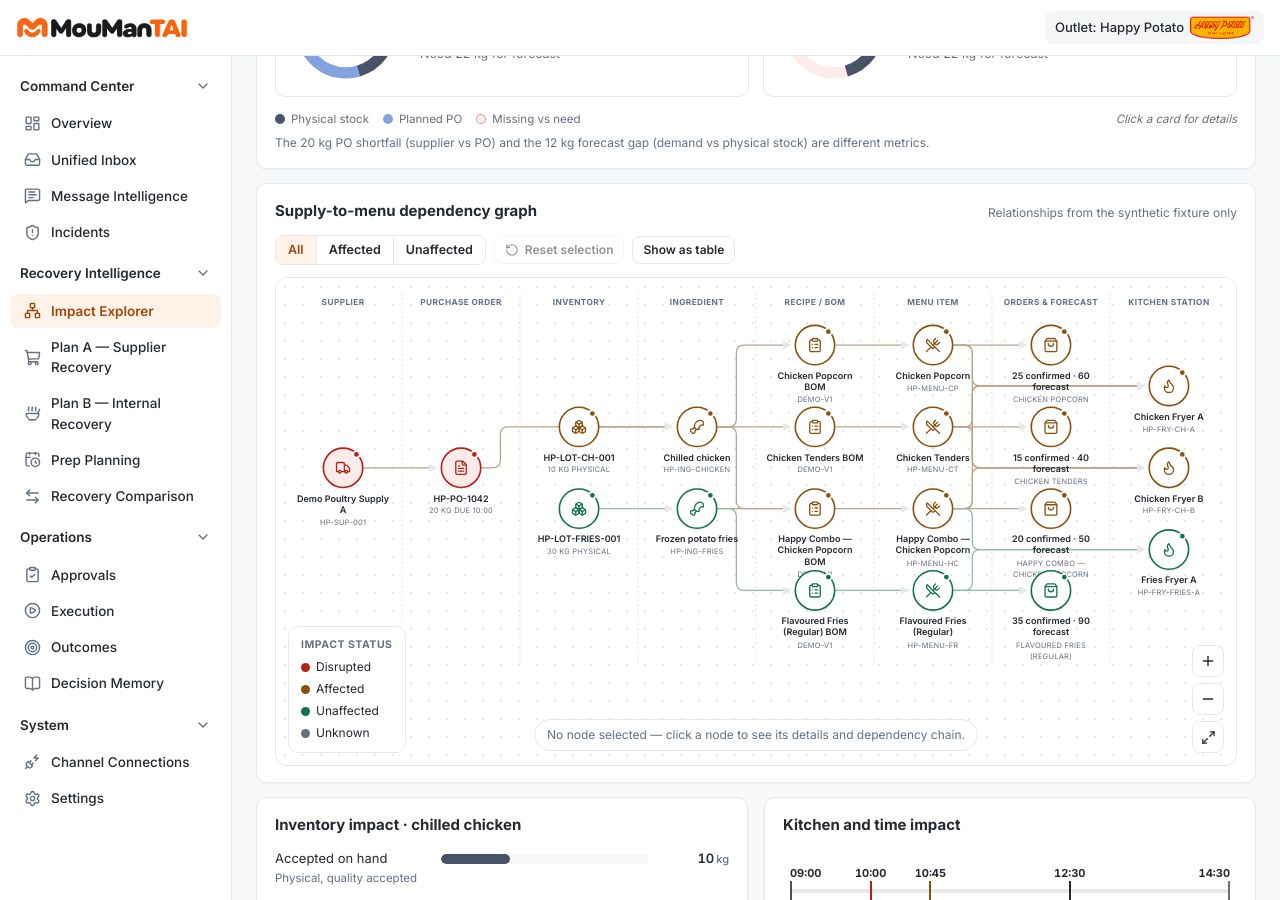
it: Impact Explorer page › node selection opens details, highlights relationships, and can be reset
The image size is (1280, 900).
(page scrolled)
Click the button with aria-label "Purchase order: HP-PO-1042" at (461, 482), box [412, 448, 510, 517]
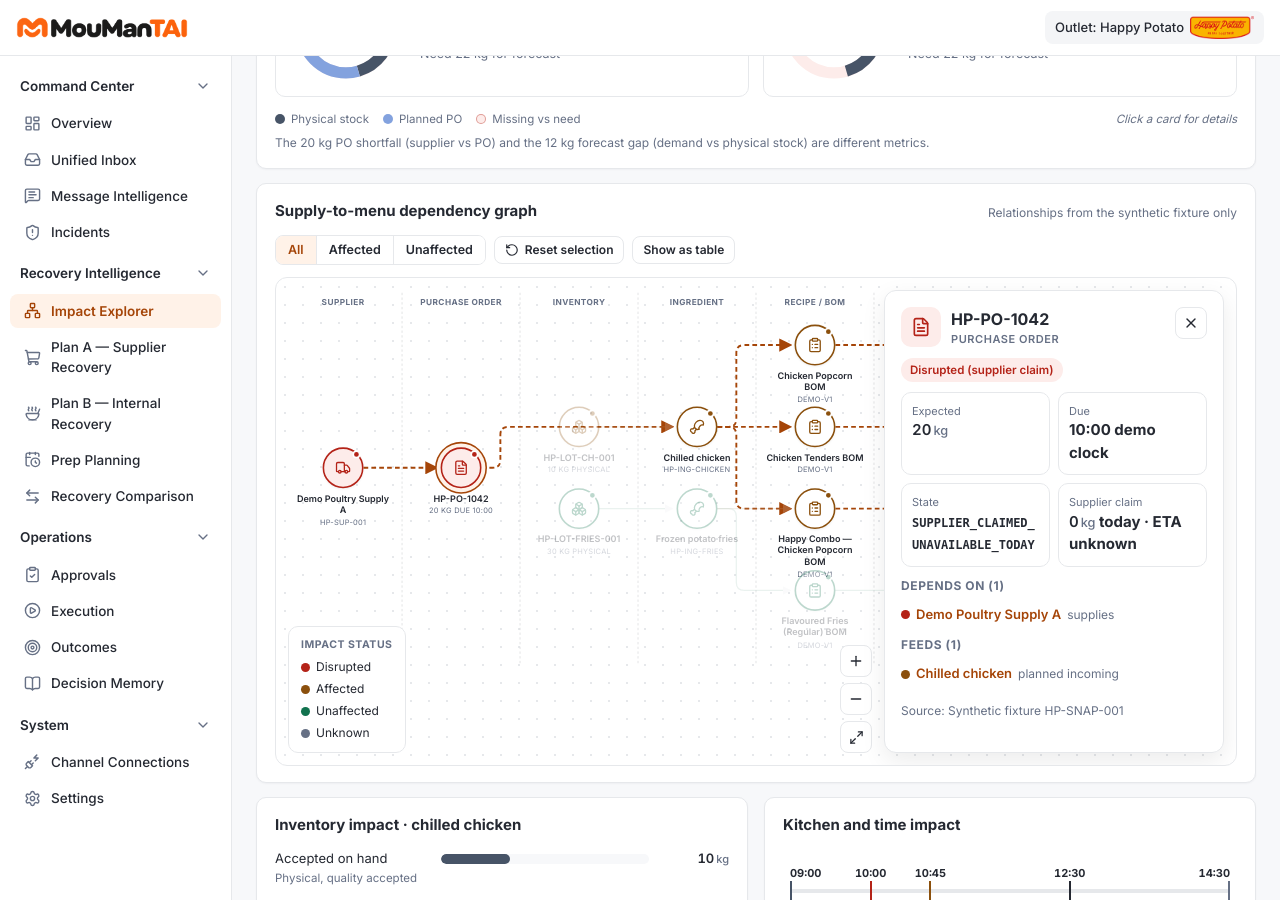
Now the text "SUPPLIER_CLAIMED_UNAVAILABLE_TODAY" is shown, box [912, 516, 1035, 552]
// navigate a dependency level from the detail panel
Click the button "Chilled chicken" at (964, 674), box [916, 664, 1012, 684]
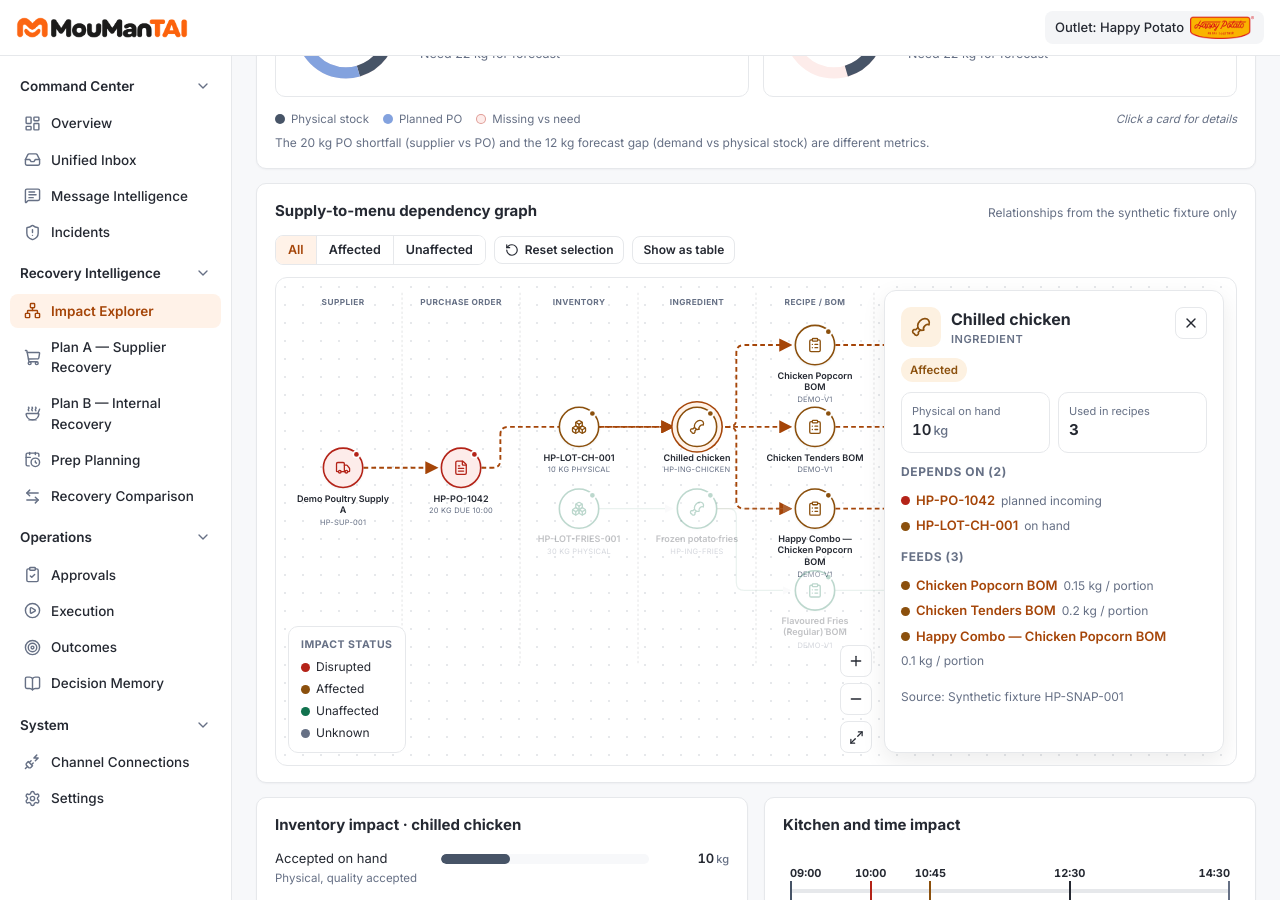
Now the element named "Details for Chilled chicken" is shown, box [884, 290, 1224, 753]
Click the button "Reset selection" at (559, 250), box [494, 236, 624, 264]
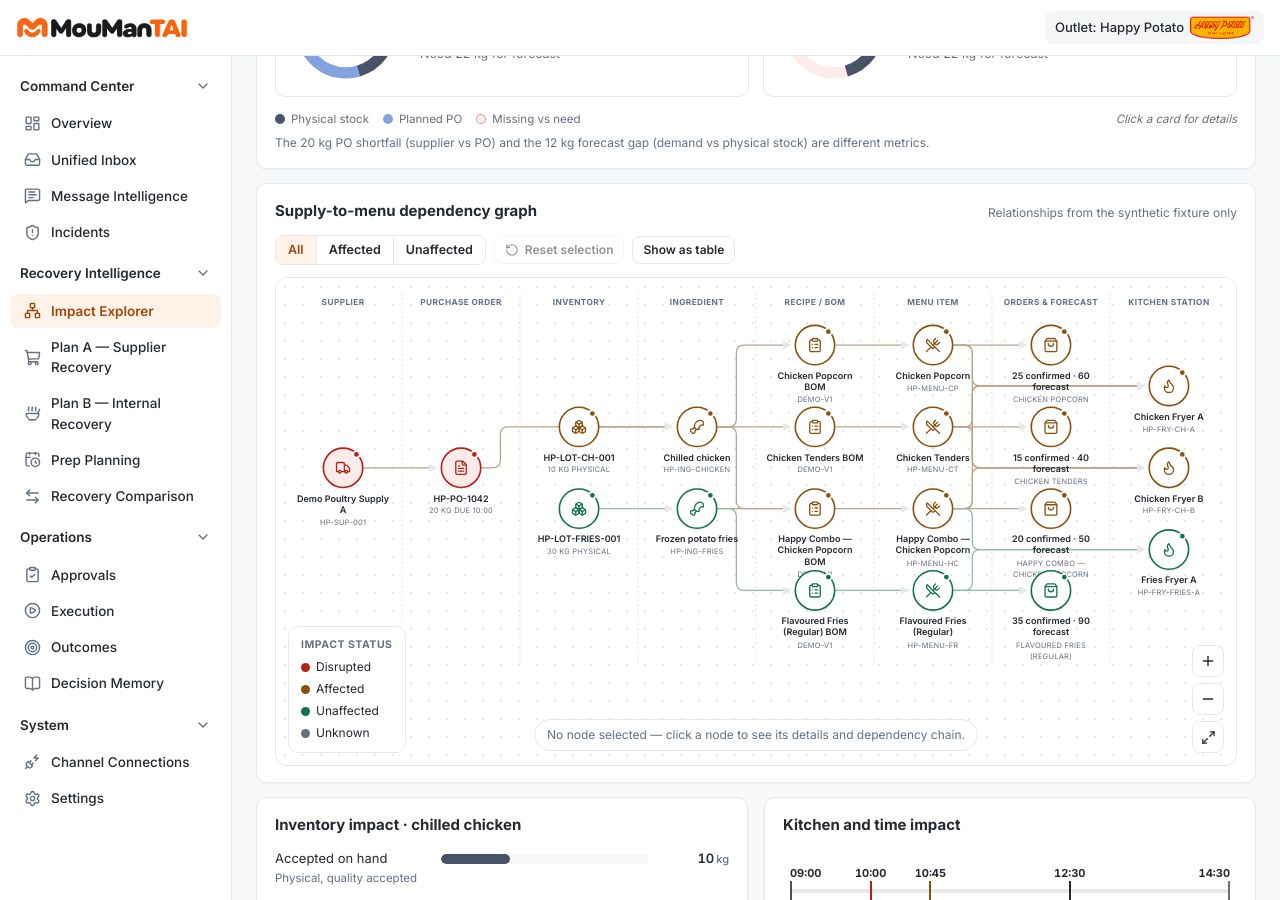
Now the text "No node selected" is shown, box [547, 727, 965, 742]
